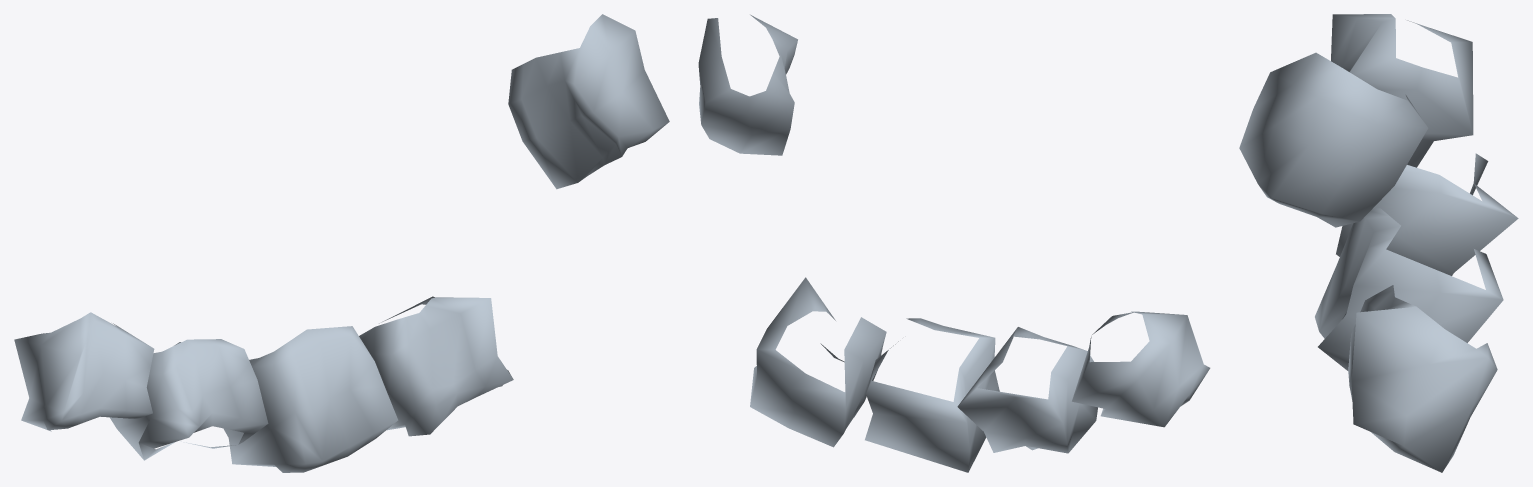
Rendered from articular-capsules-of-metacarpophalangeal-joints-l.glb.
The picture shows the model from 3 angles, left to right: view 1: azimuth 30°, elevation 25°; view 2: azimuth 150°, elevation 25°; view 3: azimuth 270°, elevation 25°; orthographic projection. The views are drawn at different scales.
Parts seen in each view (by area): view 1: Articular capsules of metacarpophalangeal joints.l; view 2: Articular capsules of metacarpophalangeal joints.l; view 3: Articular capsules of metacarpophalangeal joints.l.
Part boxes in pixels (x1,y1,x2,y2): Articular capsules of metacarpophalangeal joints.l: (14, 14, 669, 472); Articular capsules of metacarpophalangeal joints.l: (698, 14, 1210, 472); Articular capsules of metacarpophalangeal joints.l: (1239, 14, 1518, 472).
Bounding box in the file's own units: 0.0943 × 0.0631 × 0.0337.
